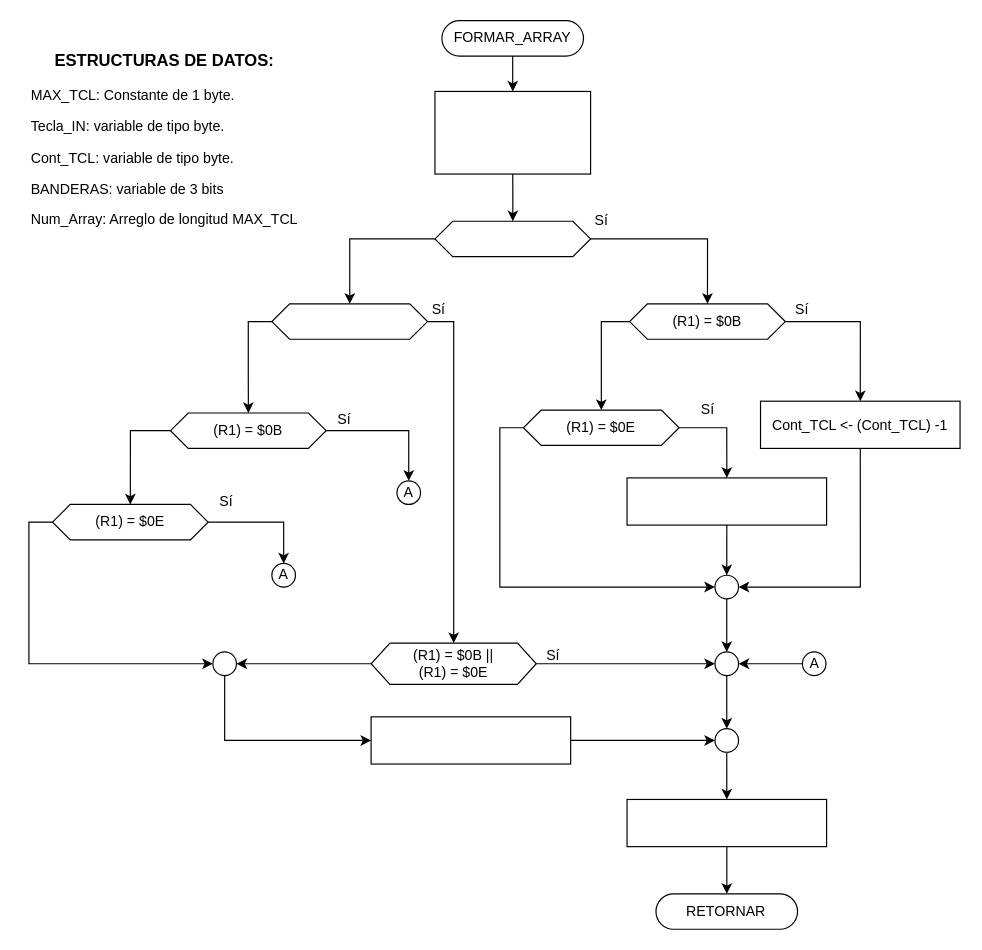
Some shapes in this 982 by 950 pixel diagram are drawn without their labels. The shapes that lost their labels are listed below. From the top down, each one's box as (x1, y1, x2, y2) in pixels, then its label:
(434, 90, 591, 174): J <- (Num_Array) R1 <-(Tecla_IN) R2 <- (Cont_TCL)
(434, 220, 591, 257): (R2) = (MAX_TCL)
(271, 303, 428, 339): (R2) = 0
(626, 477, 827, 525): BANDERAS.2 <- 1
(370, 716, 571, 764): ( (J) + (R2) ) <- (R1)
(626, 798, 827, 847): TECLA_IN <- $FF
